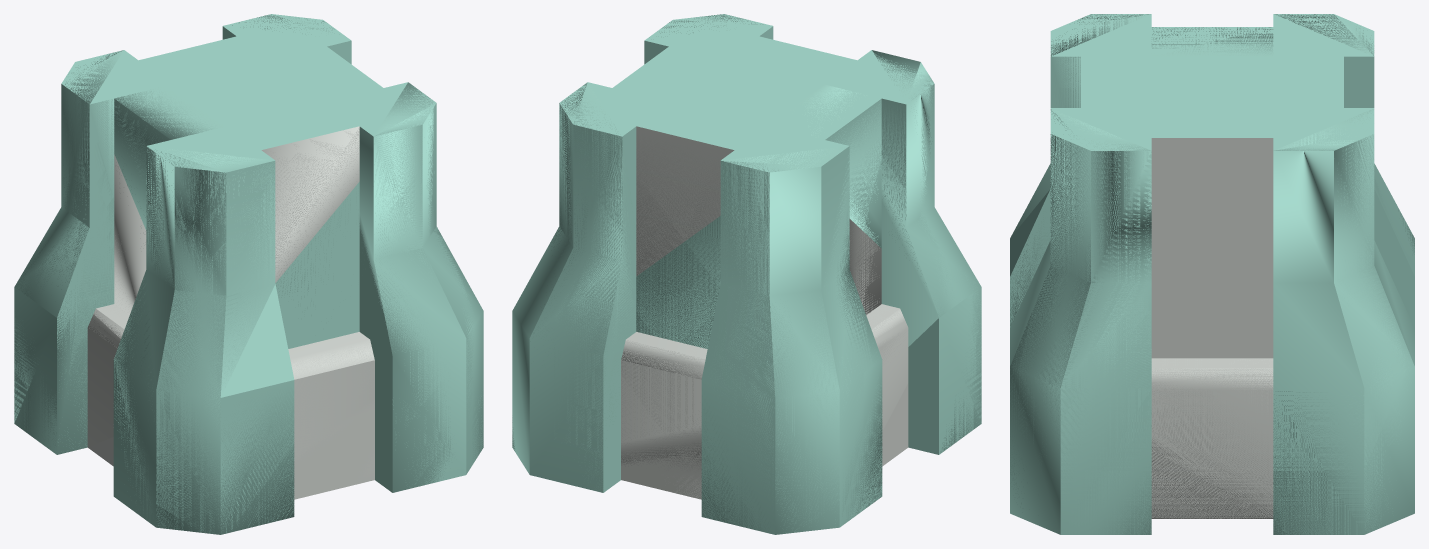
The model's file is tower-defense-kit__tower-square-bottom-b.glb.
3 renders of one model, left to right at view 1: azimuth 30°, elevation 25°; view 2: azimuth 150°, elevation 25°; view 3: azimuth 270°, elevation 25°, orthographic. The views are drawn at different scales.
Parts seen in each view (by area): view 1: L0_accent, L1_accent, L0_metal, L1_metal; view 2: L0_accent, L1_accent, L1_metal, L0_metal; view 3: L0_accent, L1_accent, L0_metal, L1_metal.
Boxes of the visible parts, x1,y1,x2,y2 form: L0_accent: (14, 14, 483, 533); L1_accent: (14, 14, 483, 534); L0_metal: (87, 126, 374, 499); L1_metal: (89, 128, 374, 484); L0_accent: (512, 14, 981, 534); L1_accent: (512, 14, 981, 534); L1_metal: (621, 126, 908, 499); L0_metal: (621, 126, 907, 499); L0_accent: (1010, 14, 1414, 534); L1_accent: (1010, 14, 1414, 534); L0_metal: (1151, 138, 1273, 518); L1_metal: (1151, 138, 1273, 518).
Size of the model in its own units: 1 by 1 by 1.
